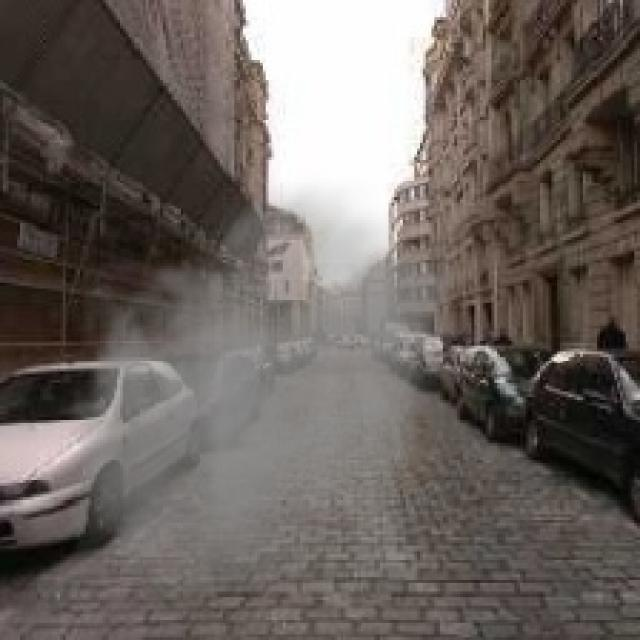Smoke: (69, 168, 452, 592)
